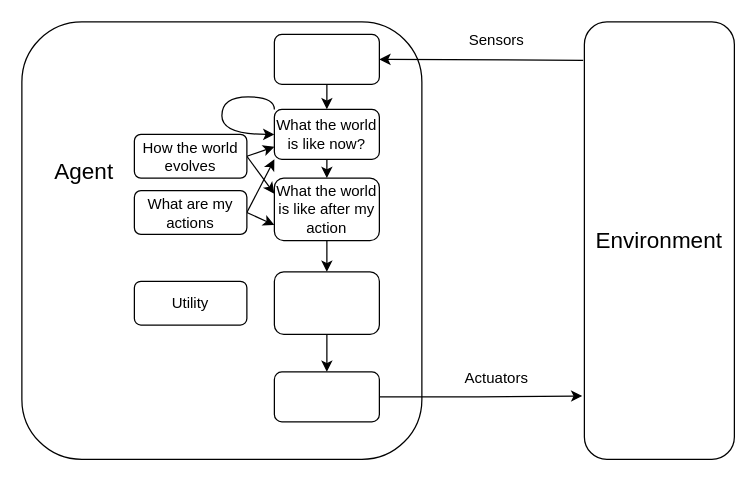
The diagram is 756 pixels wide and 481 high, and some of its shapes have lost their labels. Here are the shapes that lost their labels. From the top down, the centre of each, then its label:
At (x=326, y=58): "What do I observe?".
At (x=326, y=302): "How much utility I get after my action".
At (x=326, y=396): "What should I do?".
